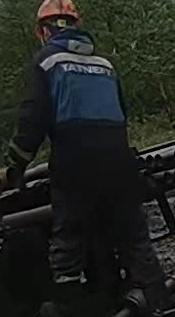gloves: (3, 138, 34, 189)
helmet: (36, 0, 80, 22)
vest: (33, 32, 139, 190)
